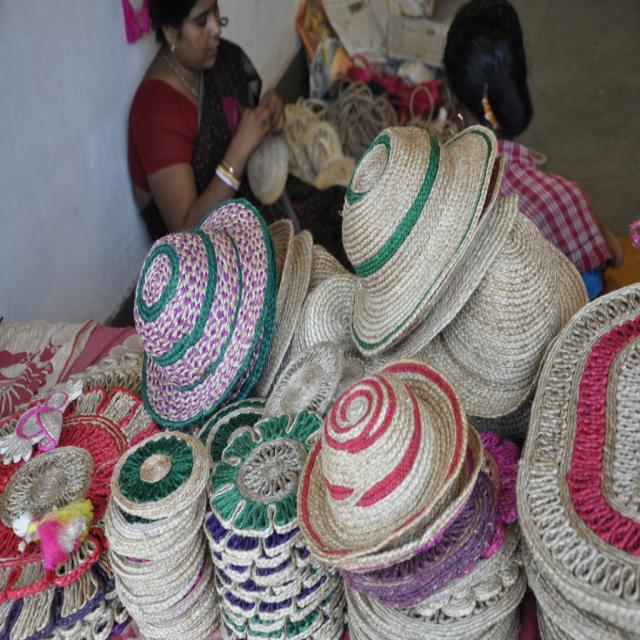Hat: (132, 121, 586, 563)
